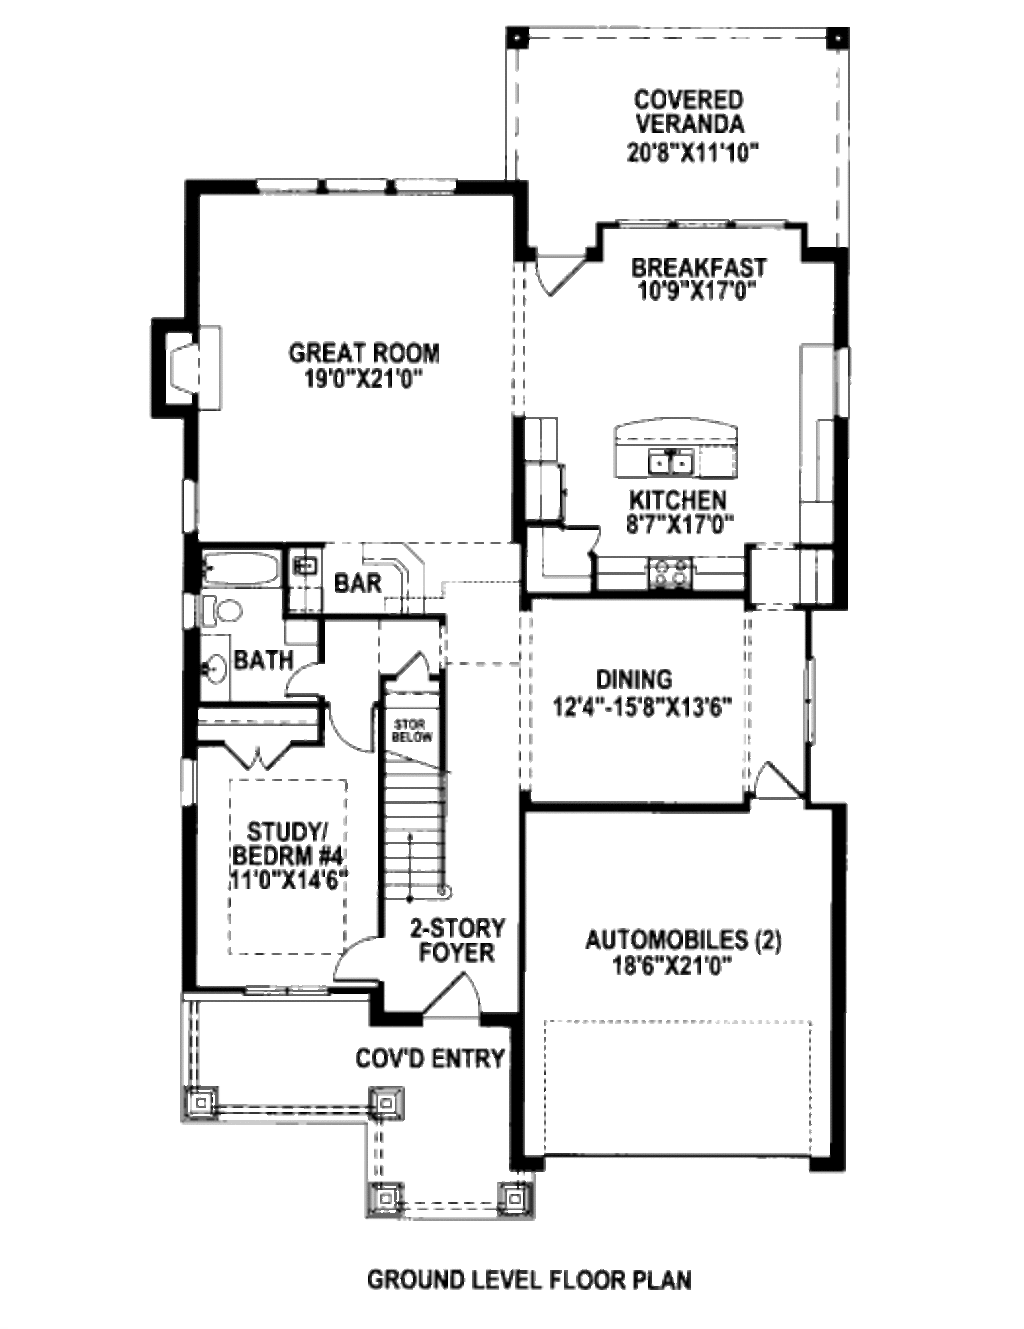door: (408, 976, 487, 1040), (746, 757, 820, 821), (212, 730, 299, 782), (321, 924, 392, 984), (535, 249, 595, 308), (318, 701, 372, 755), (561, 513, 618, 559), (378, 644, 437, 684), (278, 663, 324, 703)
kitchen_bar: (599, 409, 743, 496)
large_sink: (181, 586, 256, 634)
small_sink: (183, 638, 239, 701)
stairs: (378, 678, 453, 909)
tub: (191, 544, 278, 584)
twin_sink: (637, 438, 703, 476)
window: (253, 169, 458, 203), (795, 657, 837, 757), (170, 755, 208, 813)
